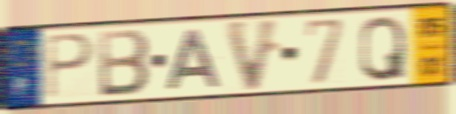7: (303, 16, 346, 87)
A: (163, 27, 224, 92)
B: (96, 27, 152, 100)
P: (44, 32, 97, 102)
Q: (357, 13, 408, 84)
V: (222, 17, 284, 95)
